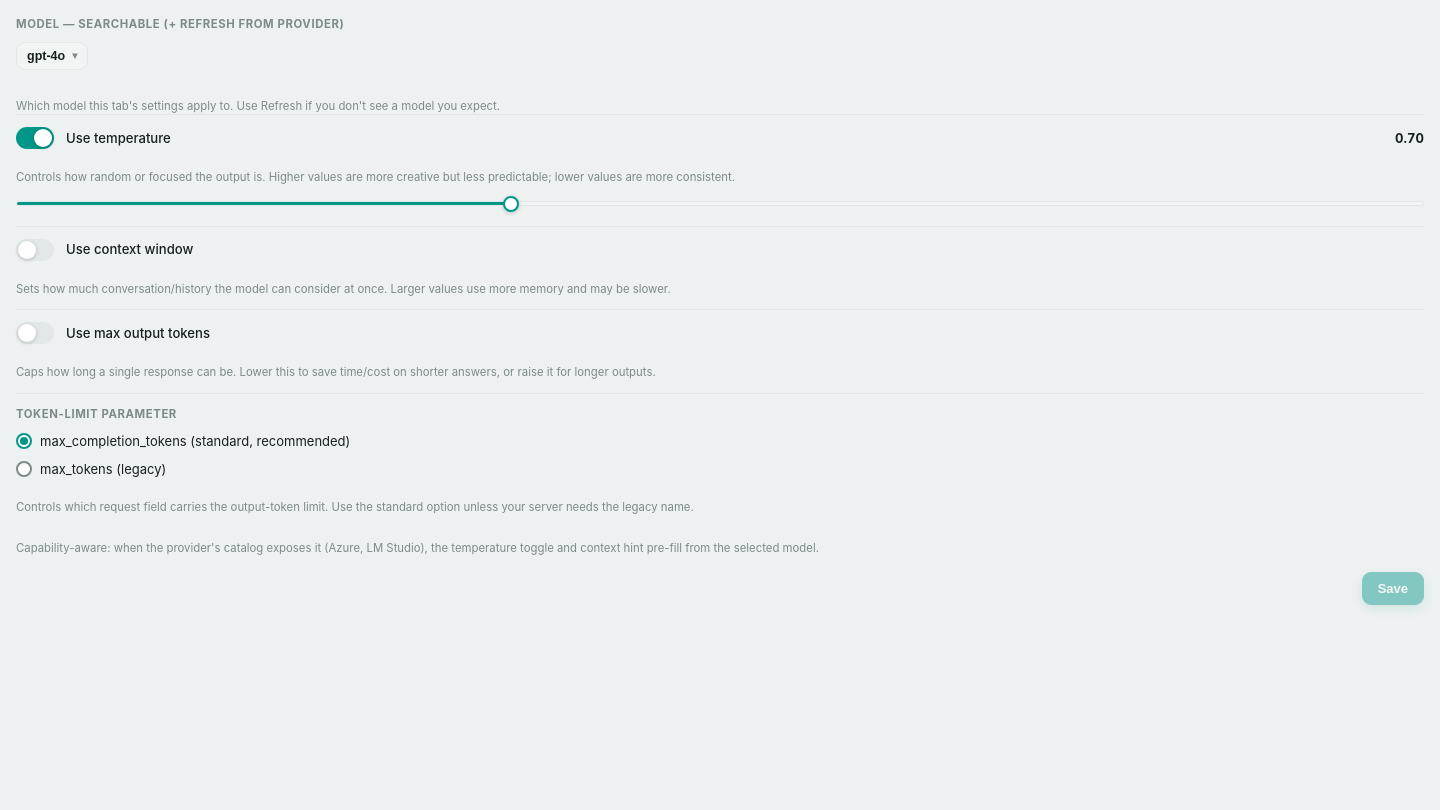
ModelConfigTab › toggling Use max output tokens marks the form dirty independently of the context-window toggle
The image size is (1440, 810).
Check: the button "Save" is disabled, box [1362,572,1424,605]
Click the switch named "use max output tokens".
click(35, 333)  # box [16,322,54,344]
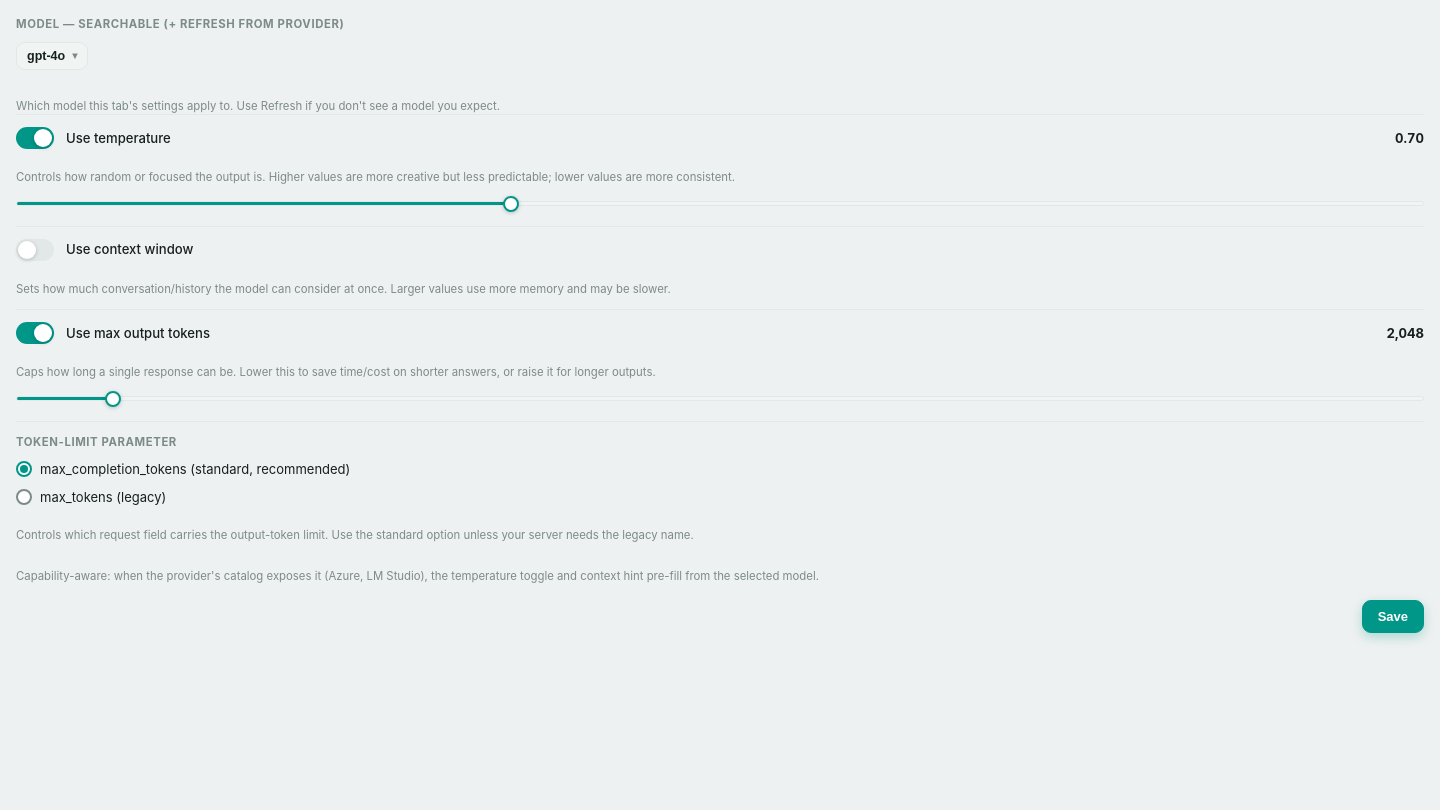
Check: the switch named "use context window" is not checked, box [16,239,54,261]
Check: the button "Save" is enabled, box [1362,600,1424,633]
